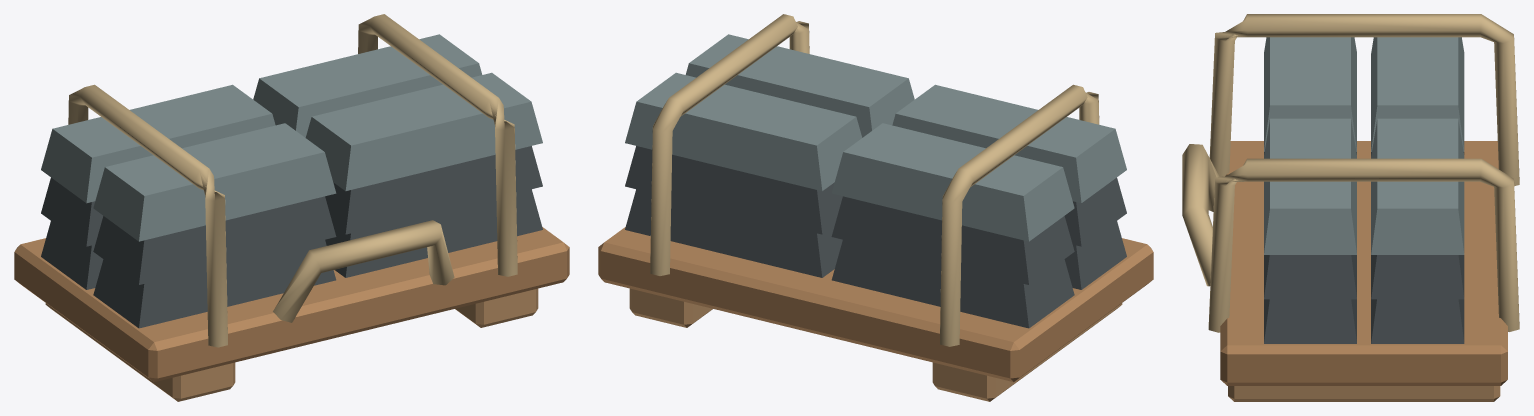
File: goods_iron_ingots_bundle.glb
3 views of the same model, side by side, from view 1: azimuth 30°, elevation 25°; view 2: azimuth 150°, elevation 25°; view 3: azimuth 270°, elevation 25° (orthographic). The views are drawn at different scales.
Parts seen in each view (by area): view 1: goods_iron_ingots_bundle; view 2: goods_iron_ingots_bundle; view 3: goods_iron_ingots_bundle.
Boxes of the visible parts, x1,y1,x2,y2 form: goods_iron_ingots_bundle: (14,14,569,401); goods_iron_ingots_bundle: (598,14,1153,401); goods_iron_ingots_bundle: (1182,14,1519,401).
Size of the model in its own units: 0.64 by 0.319 by 0.4338.
